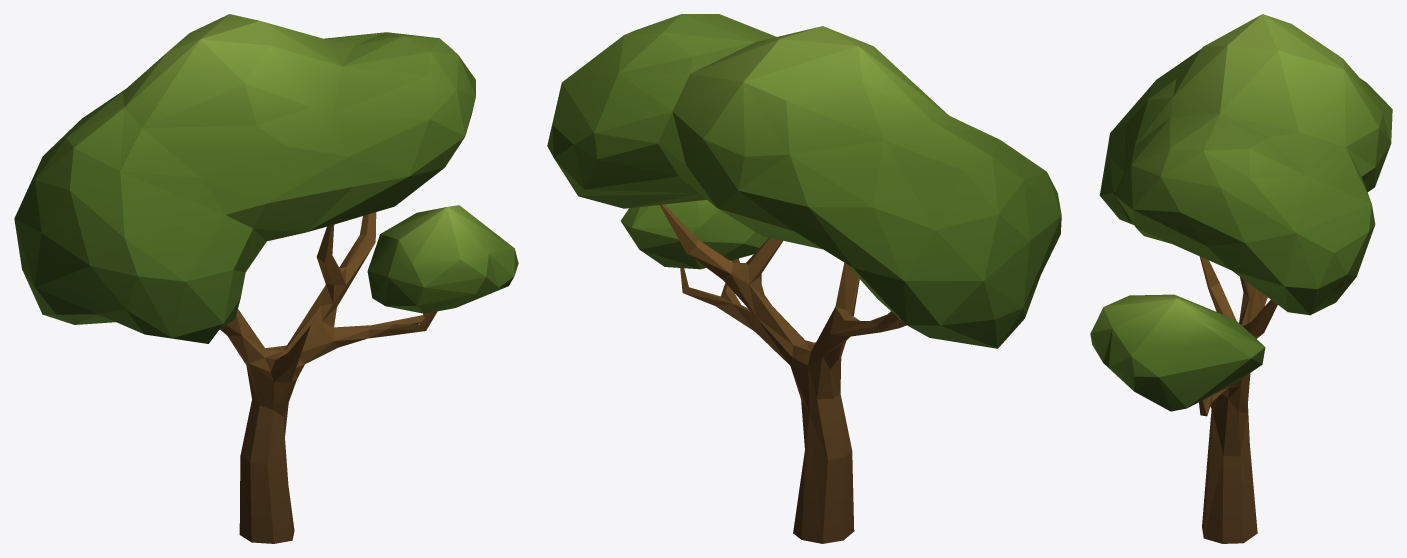
File: Tree_01.fbx
3 renders of one model, left to right at view 1: azimuth 30°, elevation 25°; view 2: azimuth 150°, elevation 25°; view 3: azimuth 270°, elevation 25°, orthographic. The views are drawn at different scales.
Parts seen in each view (by area): view 1: Tree_01; view 2: Tree_01; view 3: Tree_01.
Part boxes in pixels (left/top/right/bottom): Tree_01: left=14, top=14, right=518, bottom=543; Tree_01: left=547, top=14, right=1061, bottom=543; Tree_01: left=1090, top=14, right=1392, bottom=543.
Size of the model in its own units: 5.74 by 6.13 by 3.4.
